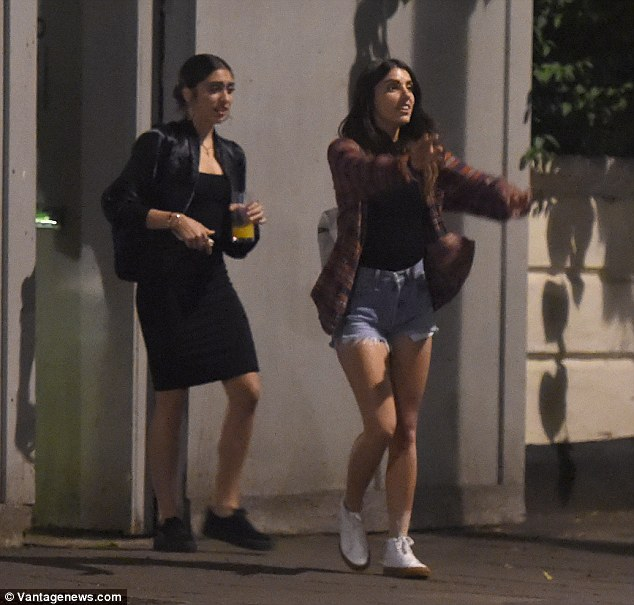Person: (312, 54, 539, 593), (98, 52, 278, 563)
